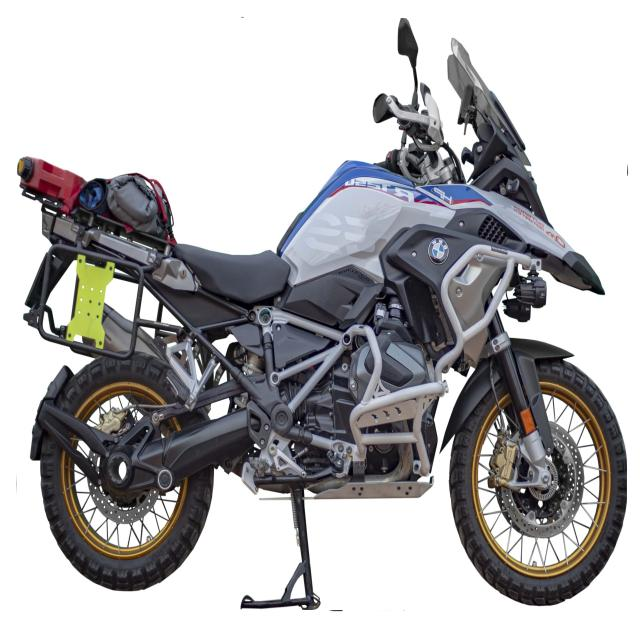motorcycle: (18, 19, 627, 610)
